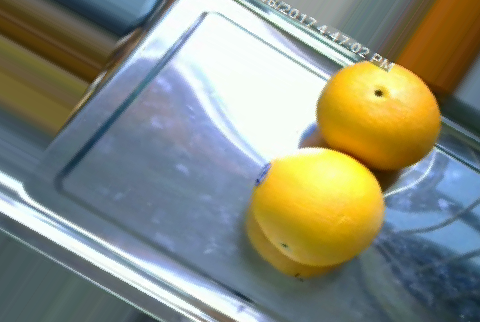Orange: (251, 145, 386, 266), (315, 58, 441, 172)
